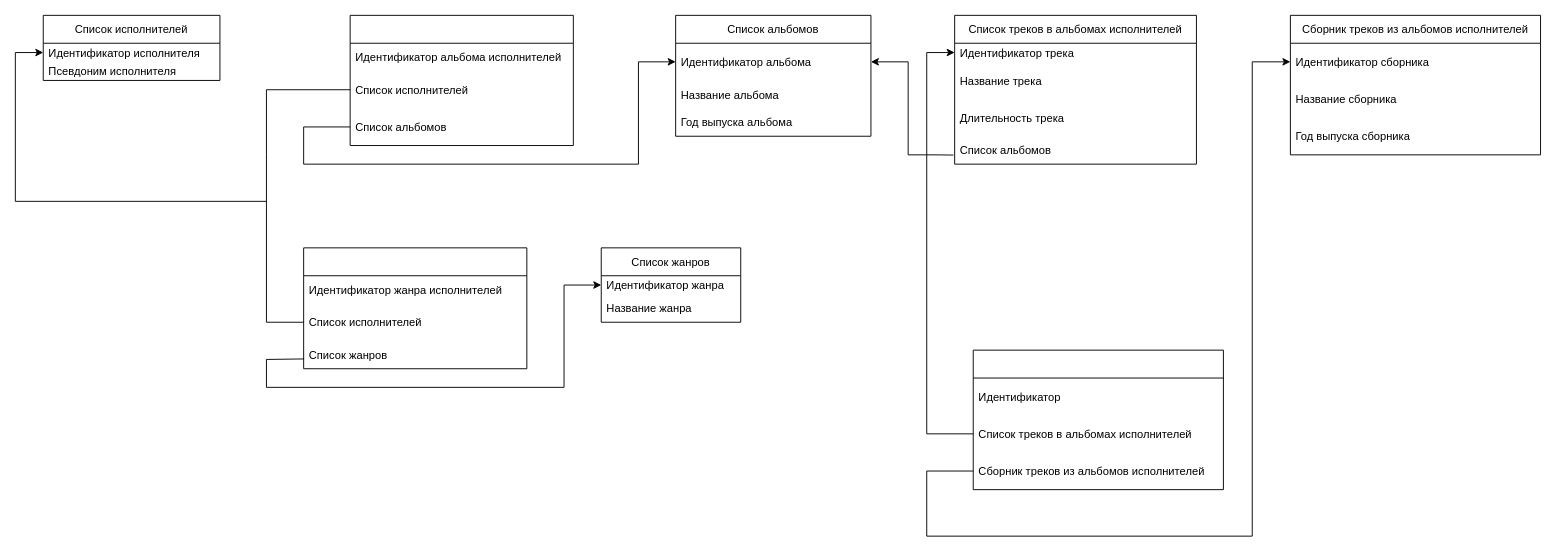
The diagram is 1556 pixels wide and 551 high, and some of its shapes have lost their labels. The box of each missing label's shape, as (x1, y1, x2, y2) in pixels:
Микст треков для сборников: (972, 349, 1223, 490)
Список альбомов исполнителей: (349, 14, 573, 146)
Список жанров исполнителей: (303, 247, 527, 369)
